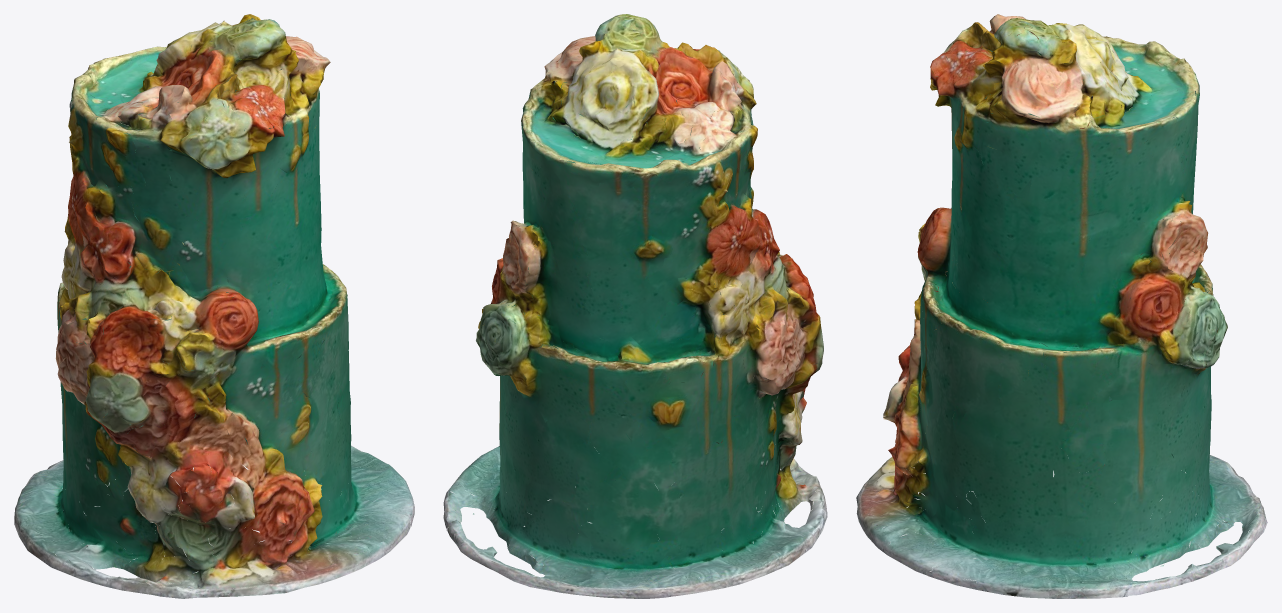
File: flower-25.glb
3 renders of one model, left to right at view 1: azimuth 30°, elevation 25°; view 2: azimuth 150°, elevation 25°; view 3: azimuth 270°, elevation 25°, orthographic. The views are drawn at different scales.
Parts seen in each view (by area): view 1: mesh; view 2: mesh; view 3: mesh.
Boxes of the visible parts, x1,y1,x2,y2 form: mesh: [14, 14, 414, 598]; mesh: [443, 14, 827, 598]; mesh: [856, 14, 1267, 598].
Size of the model in its own units: 0.257 by 0.3555 by 0.2606.
Materials: 1 (1 with a texture image).
